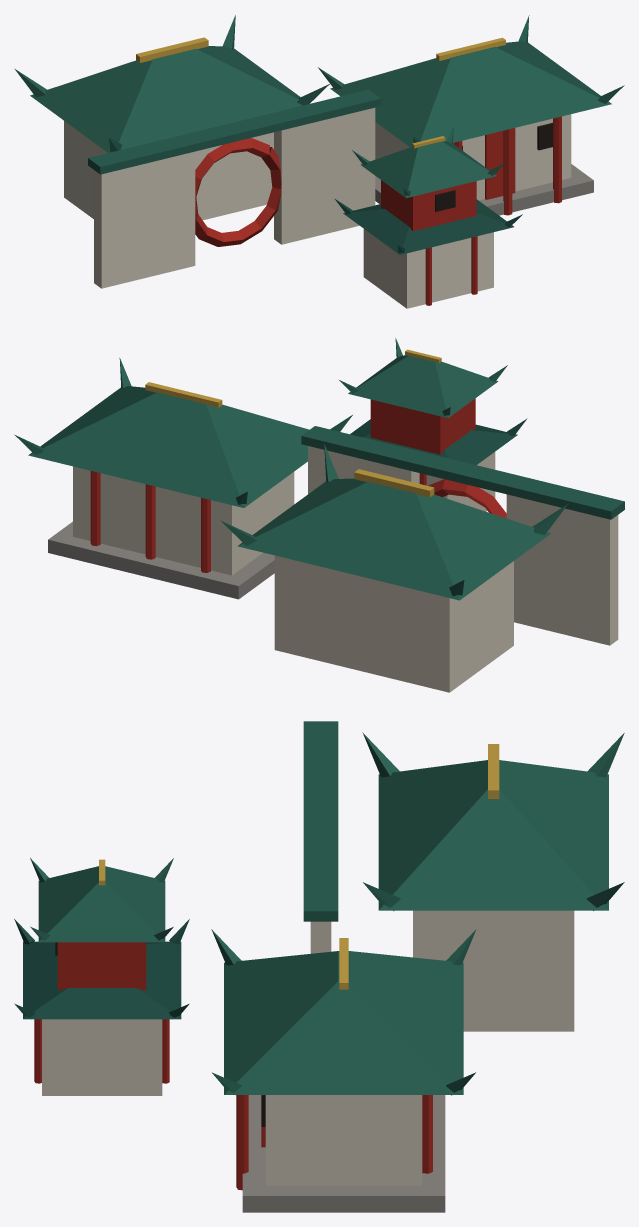
File: dragon_compound.glb
3 views of the same model, one above another, from view 1: azimuth 30°, elevation 25°; view 2: azimuth 150°, elevation 25°; view 3: azimuth 270°, elevation 25° (orthographic). The views are drawn at different scales.
Parts seen in each view (by area): view 1: dragon_compound; view 2: dragon_compound; view 3: dragon_compound.
Boxes of the visible parts, left/top/right/bottom form: dragon_compound: left=14, top=15, right=624, bottom=308; dragon_compound: left=14, top=338, right=624, bottom=692; dragon_compound: left=14, top=721, right=624, bottom=1212.
Size of the model in its own units: 6.82 by 2.12 by 5.3.
